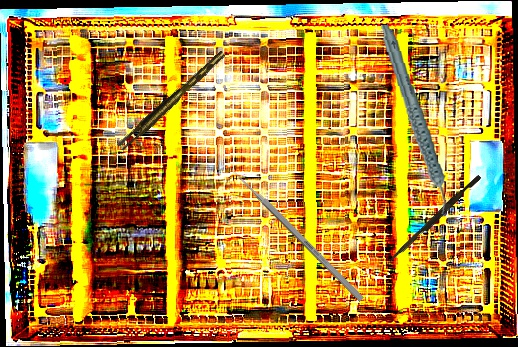Handpiece: (379, 20, 449, 219)
Pusher: (225, 162, 365, 303), (386, 172, 482, 268)
Tissue Forceps: (113, 50, 231, 152)
